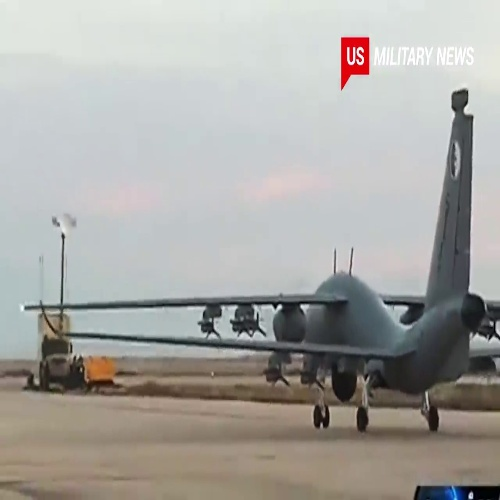uav: (25, 87, 495, 434)
